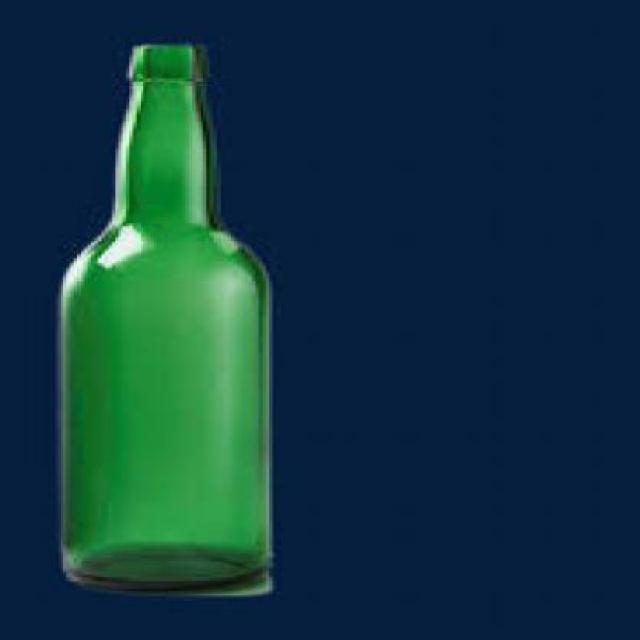kaca: (52, 41, 272, 594)
